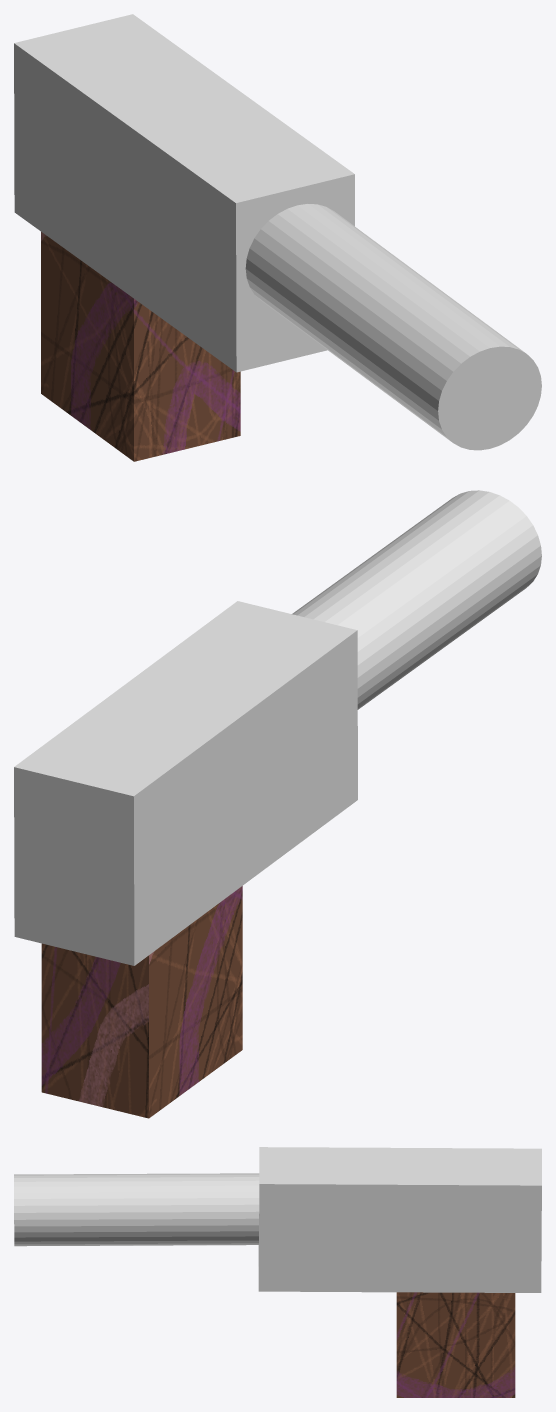
File: USP.fbx
The picture shows the model from 3 angles, top to bottom: view 1: azimuth 30°, elevation 25°; view 2: azimuth 150°, elevation 25°; view 3: azimuth 270°, elevation 25°; orthographic projection. The views are drawn at different scales.
Visible parts, largest first — view 1: Slide, Silencer, Grip; view 2: Slide, Grip, Silencer; view 3: Slide, Silencer, Grip.
Part boxes in pixels (left/top/right/bottom): Slide: left=14, top=14, right=354, bottom=372; Silencer: left=245, top=204, right=541, bottom=450; Grip: left=41, top=232, right=240, bottom=461; Slide: left=14, top=601, right=357, bottom=965; Grip: left=41, top=886, right=242, bottom=1118; Silencer: left=292, top=490, right=541, bottom=709; Slide: left=258, top=1147, right=541, bottom=1292; Silencer: left=14, top=1173, right=259, bottom=1246; Grip: left=396, top=1292, right=515, bottom=1397.
Bounding box in the file's own units: 0.5073 × 1.38 × 3.06.
